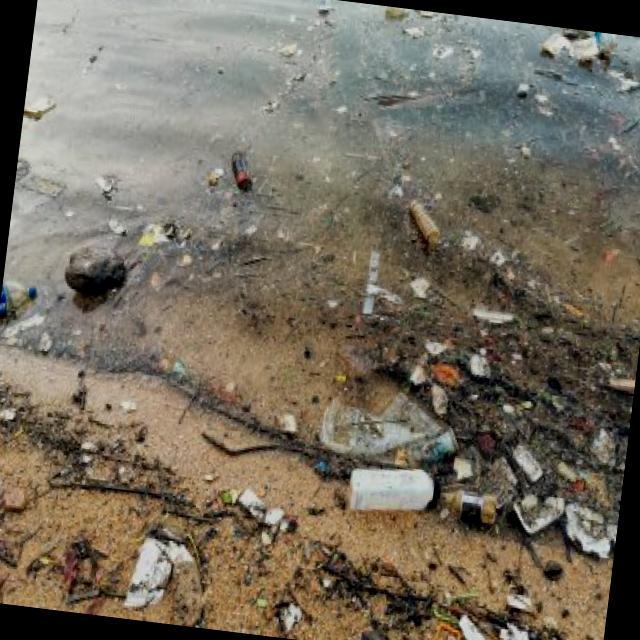garbage: (221, 152, 640, 632)
